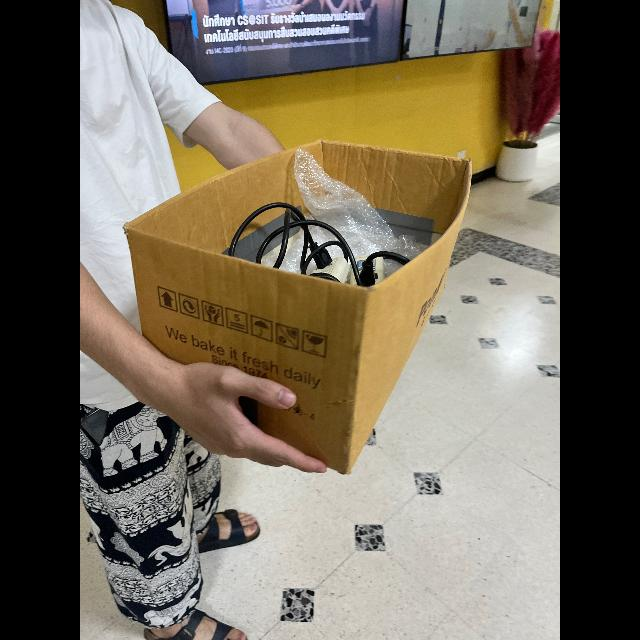cardboard_box: (125, 132, 478, 480)
